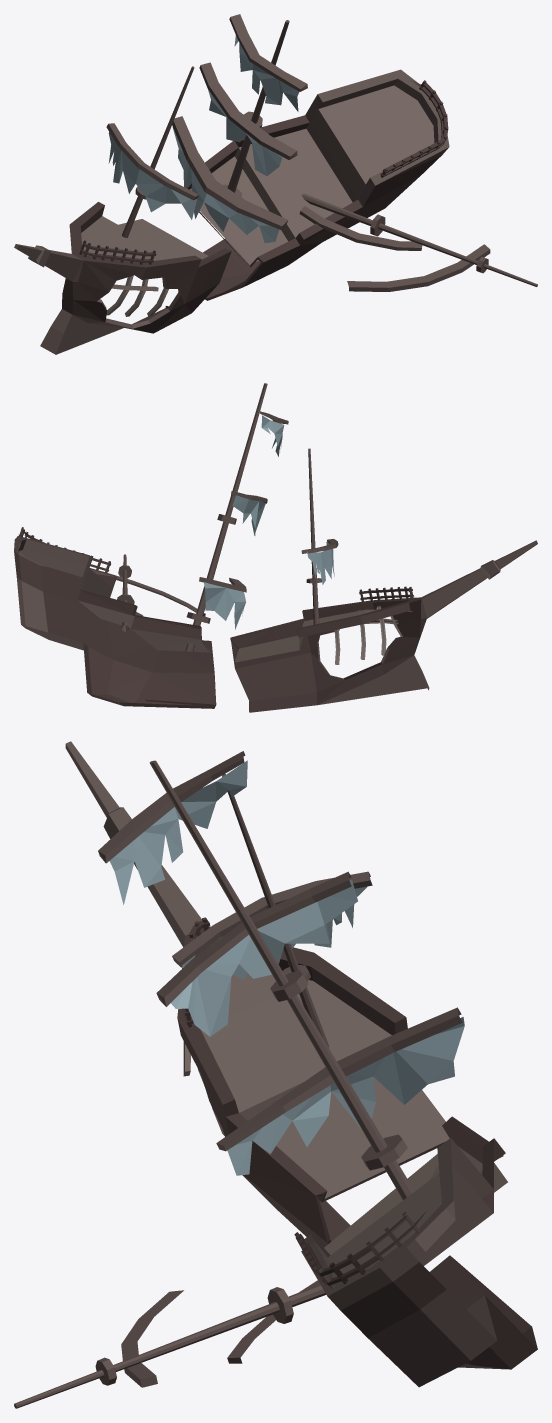
File: M_chenchuan01Low.fbx
3 views of the same model, one above another, from view 1: azimuth 30°, elevation 25°; view 2: azimuth 150°, elevation 25°; view 3: azimuth 270°, elevation 25° (orthographic). The views are drawn at different scales.
Parts seen in each view (by area): view 1: ship.023; view 2: ship.023; view 3: ship.023.
Boxes of the visible parts, bbox=[...] form: ship.023: bbox=[14, 14, 537, 354]; ship.023: bbox=[14, 383, 537, 712]; ship.023: bbox=[14, 741, 537, 1408].
Size of the model in its own units: 4094 by 2483 by 2134.
